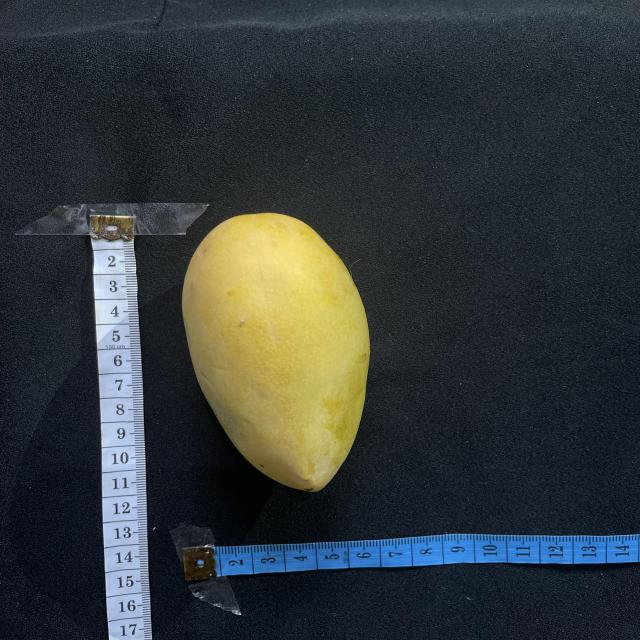Ripe: (182, 213, 370, 491)
